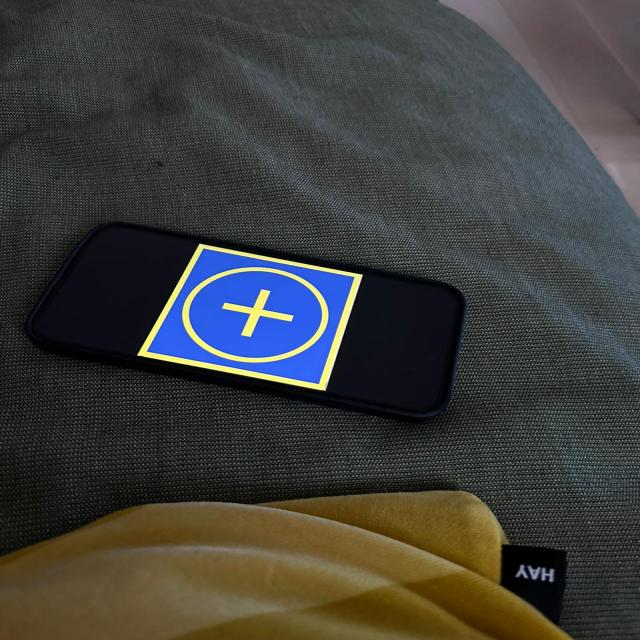Marker: (123, 235, 367, 394)
